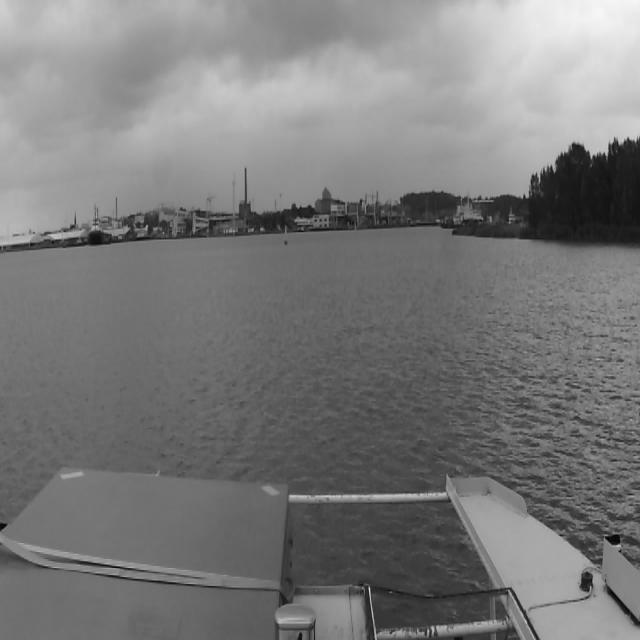buoy: (284, 225, 288, 245)
ship: (89, 202, 103, 246)
